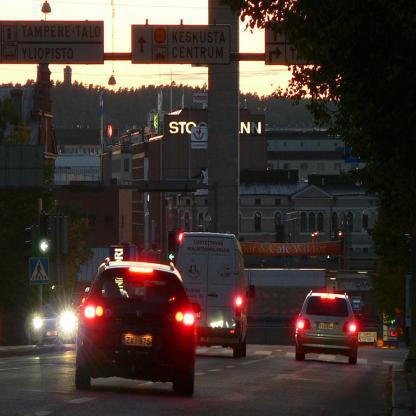Ambulance - v1 Ambulance last generate: (168, 229, 250, 354)
